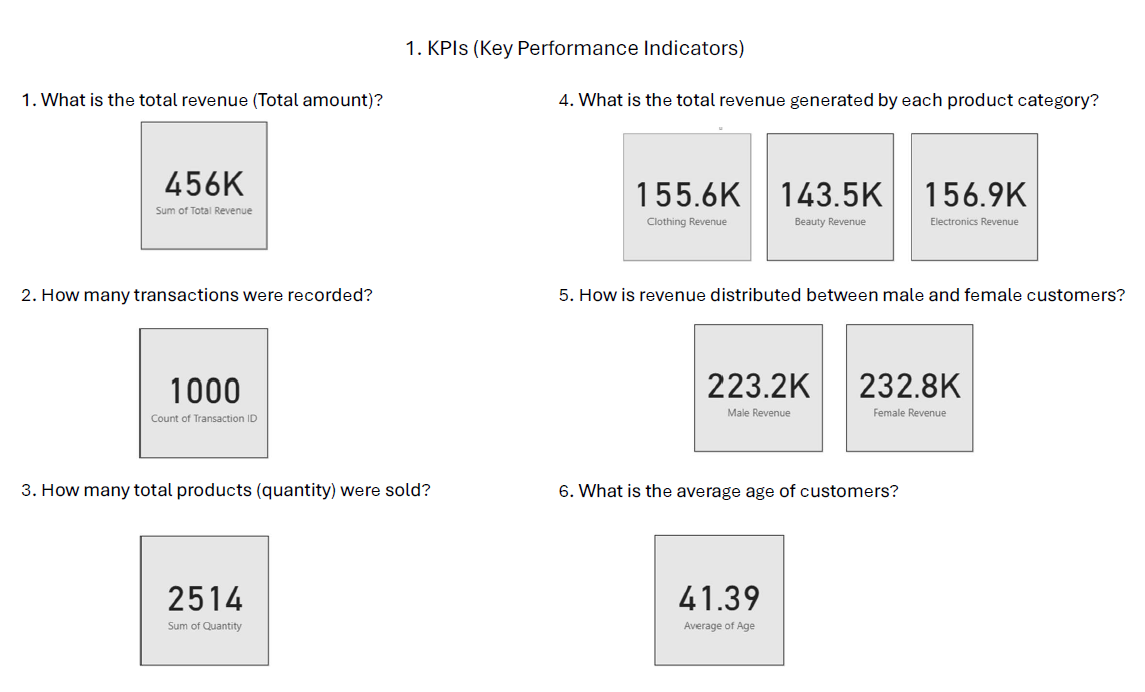

Layout of this report page (visuals, bound fields, positions):
{"tool":"powerbi","page":{"name":"KPI's","canvas":[1280,720],"ordinal":0},"visuals":[{"type":"card","fields":{"Values":["Sum(retail_sales_dataset.Total Revenue)"]},"box":[924.3,18.6,201.4,120],"z":0},{"type":"card","fields":{"Values":["Sum(retail_sales_dataset.Quantity)"]},"box":[17.4,233.5,199.8,199.8],"z":1000},{"type":"card","fields":{"Values":["CountNonNull(retail_sales_dataset.Transaction ID)"]},"box":[17.1,452.9,200,200],"z":2000},{"type":"card","fields":{"Values":["Avg(retail_sales_dataset.Age)"]},"box":[710,18.6,200,120],"z":3000},{"type":"card","fields":{"Values":["retail_sales_dataset.Male Revenue"]},"box":[231.1,233.5,199.8,199.8],"z":4000},{"type":"card","fields":{"Values":["retail_sales_dataset.Female Revenue"]},"box":[231.1,453,199.8,199.8],"z":5000},{"type":"card","fields":{"Values":["retail_sales_dataset.Clothing Revenue"]},"box":[540.1,233.5,199.8,199.8],"z":6000},{"type":"card","fields":{"Values":["retail_sales_dataset.Beauty Revenue"]},"box":[765.4,233.5,199.8,199.8],"z":7000},{"type":"card","fields":{"Values":["retail_sales_dataset.Electronics Revenue"]},"box":[993.1,233.5,199.8,199.8],"z":8000}]}

Visuals, with their boxes on the page's 1280x720 design canvas (x1, y1, x2, y2). These are canvas units, not pixel positions in the 1145x692 screenshot, which may show the page scaled, cropped or inside an application window:
card - Sum(retail_sales_dataset.Total Revenue): bbox=[924, 19, 1126, 139]
card - Sum(retail_sales_dataset.Quantity): bbox=[17, 234, 217, 433]
card - CountNonNull(retail_sales_dataset.Transaction ID): bbox=[17, 453, 217, 653]
card - Avg(retail_sales_dataset.Age): bbox=[710, 19, 910, 139]
card - retail_sales_dataset.Male Revenue: bbox=[231, 234, 431, 433]
card - retail_sales_dataset.Female Revenue: bbox=[231, 453, 431, 653]
card - retail_sales_dataset.Clothing Revenue: bbox=[540, 234, 740, 433]
card - retail_sales_dataset.Beauty Revenue: bbox=[765, 234, 965, 433]
card - retail_sales_dataset.Electronics Revenue: bbox=[993, 234, 1193, 433]
